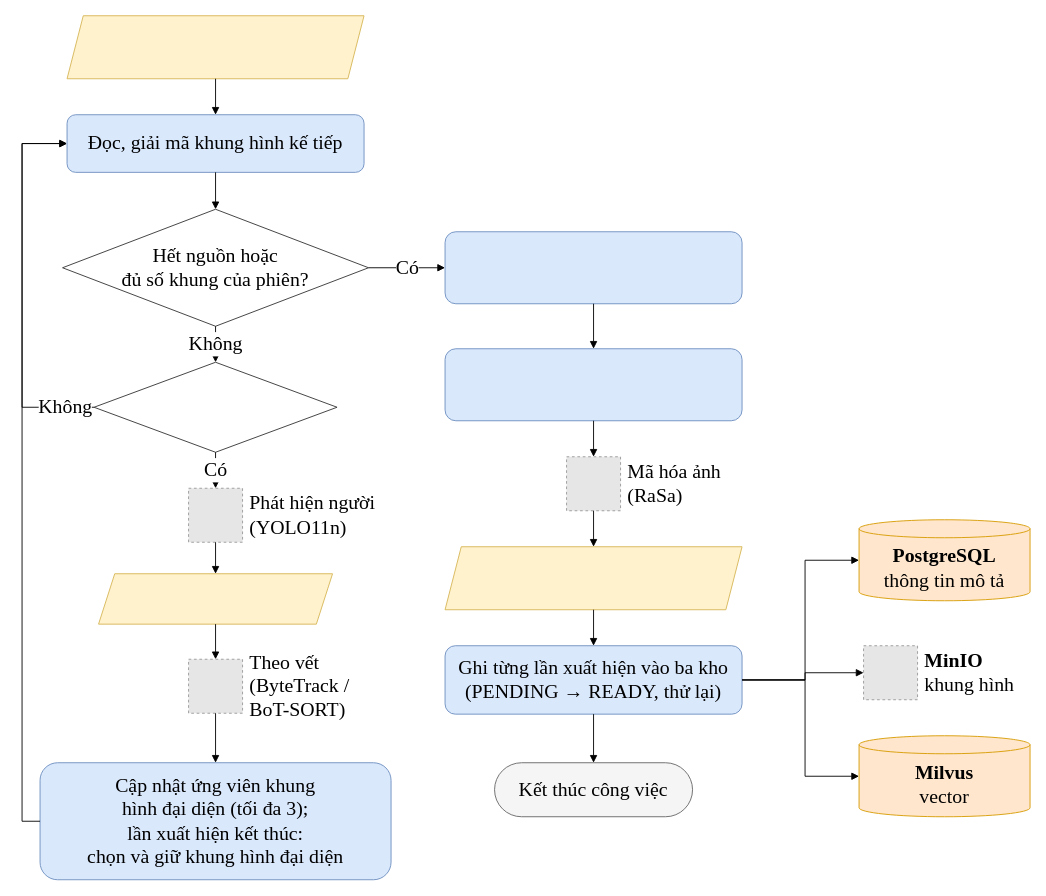
Image size: 1046x896. Some labels were removed from this diagram. Grey dashed boxes stand in for pictures. The shapes that lost their labels are listed below. From the top down, each one's box as (x1, y1, x2, y2) in pixels, then its label:
(66, 15, 364, 79): Công việc xử lý (camera, nguồn, N)
(444, 231, 742, 304): Kết thúc các lần xuất hiện còn đang theo vết
(444, 348, 742, 421): Với mỗi lần xuất hiện: cắt tạm vùng người (nới 5%)
(93, 361, 337, 452): i mod N = 0 ?
(444, 546, 742, 610): Vector 256 chiều, khung hình, khung bao
(98, 573, 333, 624): Khung bao người
